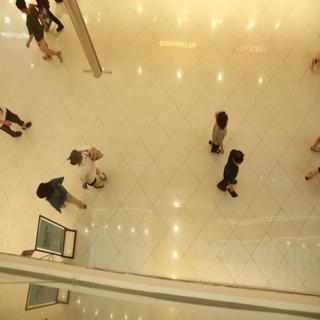person: (66, 141, 123, 204), (31, 179, 93, 219), (221, 147, 253, 209), (199, 107, 231, 157)
